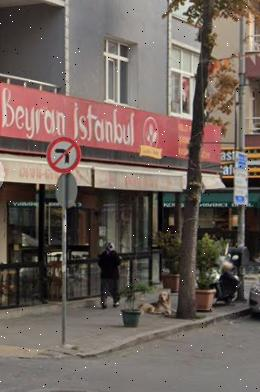leftturnsareforbidden: (46, 135, 82, 177)
